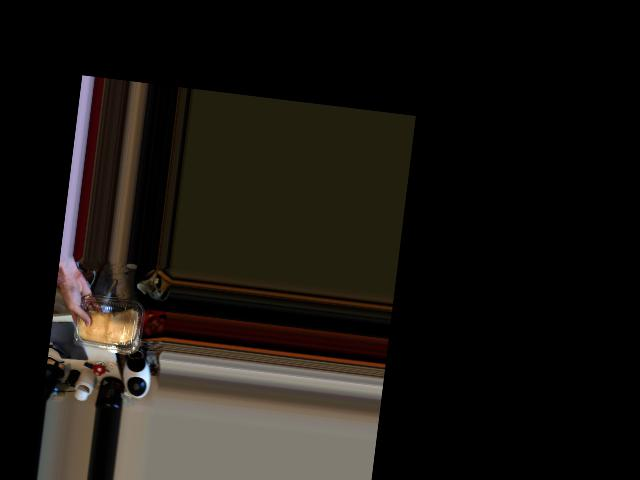cheese: (74, 290, 141, 360)
